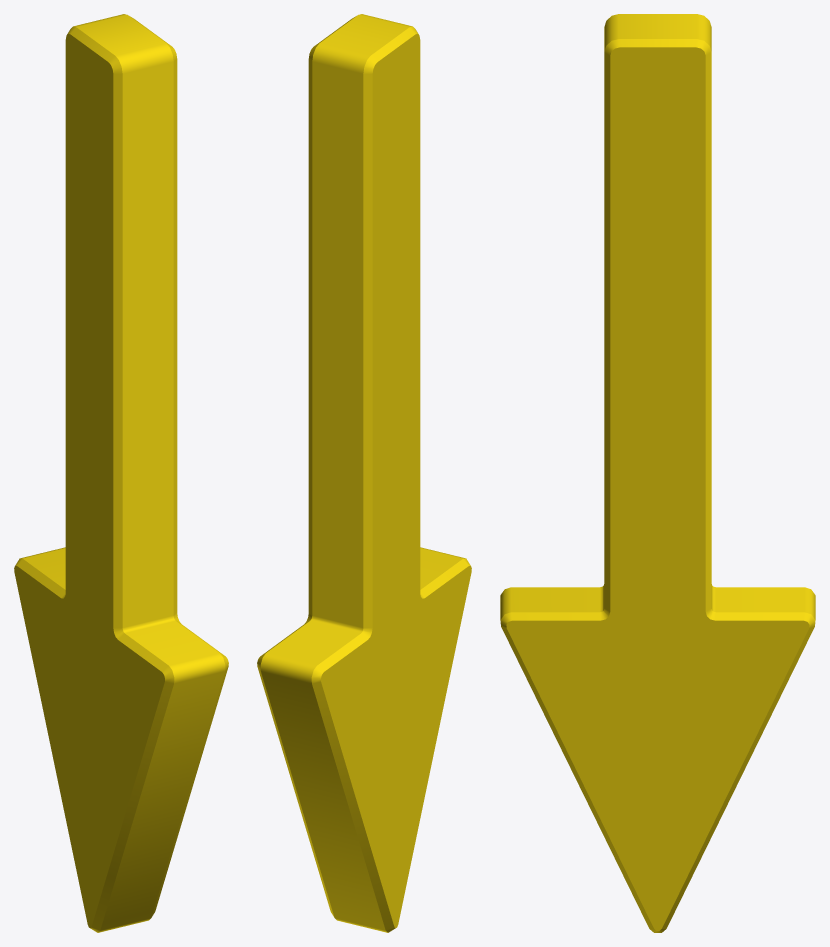
The model's file is flecha.glb.
3 renders of one model, left to right at view 1: azimuth 30°, elevation 25°; view 2: azimuth 150°, elevation 25°; view 3: azimuth 270°, elevation 25°, orthographic.
Parts seen in each view (by area): view 1: P_Flecha_1; view 2: P_Flecha_1; view 3: P_Flecha_1.
Part boxes in pixels (box(x1,y1,x2,y2)): P_Flecha_1: box(14, 14, 228, 932); P_Flecha_1: box(257, 14, 471, 932); P_Flecha_1: box(500, 14, 815, 932).
Bounding box in the file's own units: 0.0426 × 0.5674 × 0.1812.
